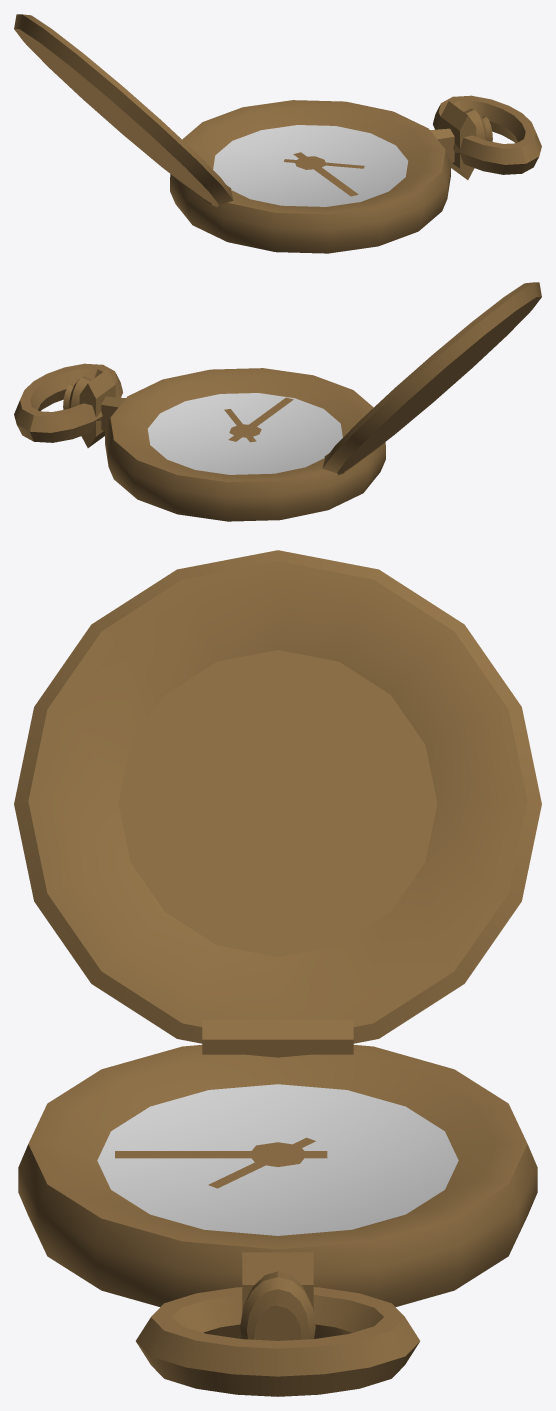
File: PocketWatch_K.fbx
3 renders of one model, top to bottom at view 1: azimuth 30°, elevation 25°; view 2: azimuth 150°, elevation 25°; view 3: azimuth 270°, elevation 25°, orthographic. The views are drawn at different scales.
Parts seen in each view (by area): view 1: PocketWatch_K; view 2: PocketWatch_K; view 3: PocketWatch_K.
Boxes of the visible parts, x1,y1,x2,y2 form: PocketWatch_K: [14, 14, 541, 253]; PocketWatch_K: [14, 282, 541, 521]; PocketWatch_K: [14, 550, 541, 1396].
Bounding box in the file's own units: 38 × 18.33 × 19.45.
